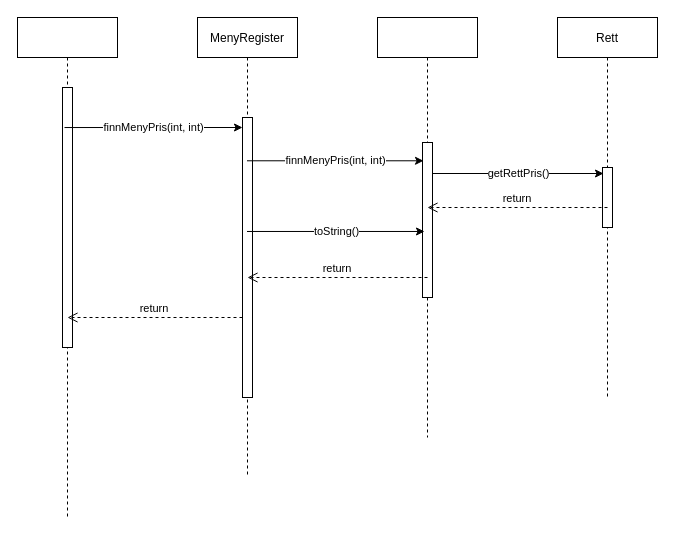
This 675x535 diagram has some shape labels left out. Here are the shapes that lost their labels. From the top down, the box of each, then its label:
(376, 16, 478, 438): Meny
(16, 16, 118, 518): Main
